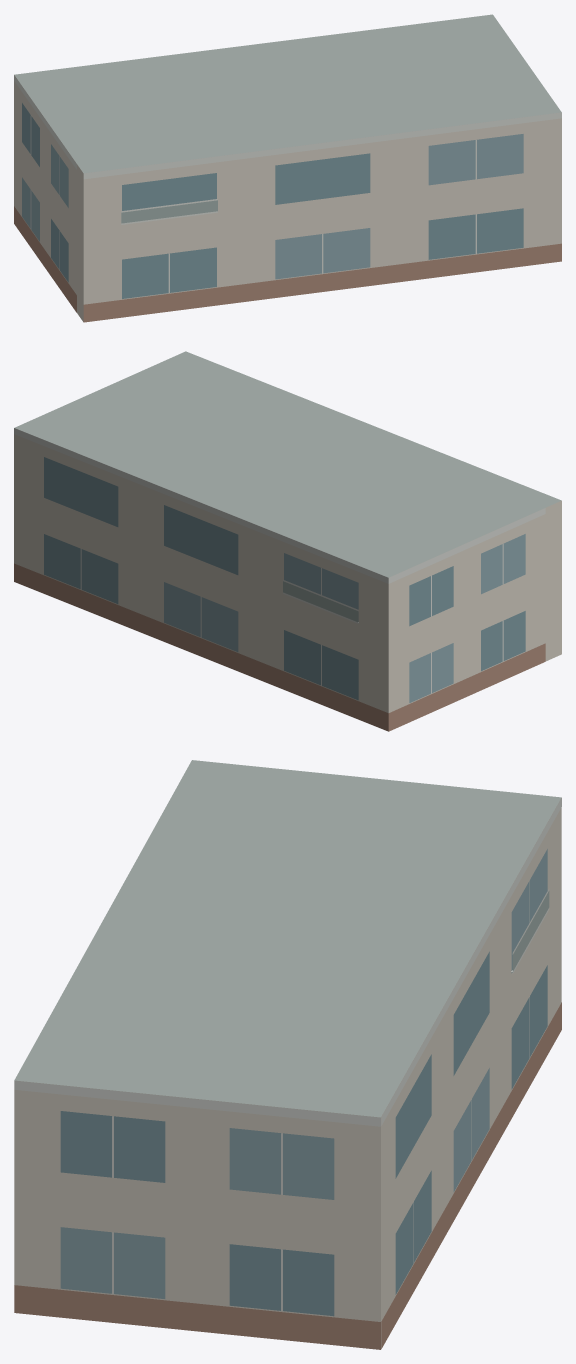
File: survey-upis-33011106.glb
3 views of the same model, one above another, from view 1: azimuth 30°, elevation 25°; view 2: azimuth 150°, elevation 25°; view 3: azimuth 270°, elevation 25° (orthographic). The views are drawn at different scales.
Visible parts, largest first — view 1: survey-upis-33011106.tmp; view 2: survey-upis-33011106.tmp; view 3: survey-upis-33011106.tmp.
Boxes of the visible parts, x1,y1,x2,y2 form: survey-upis-33011106.tmp: (14, 14, 561, 322); survey-upis-33011106.tmp: (14, 351, 561, 731); survey-upis-33011106.tmp: (14, 760, 561, 1349).
Bounding box in the file's own units: 20.13 × 6.1 × 13.04.
